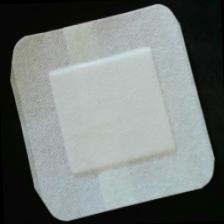Dressing: (5, 1, 222, 224)
